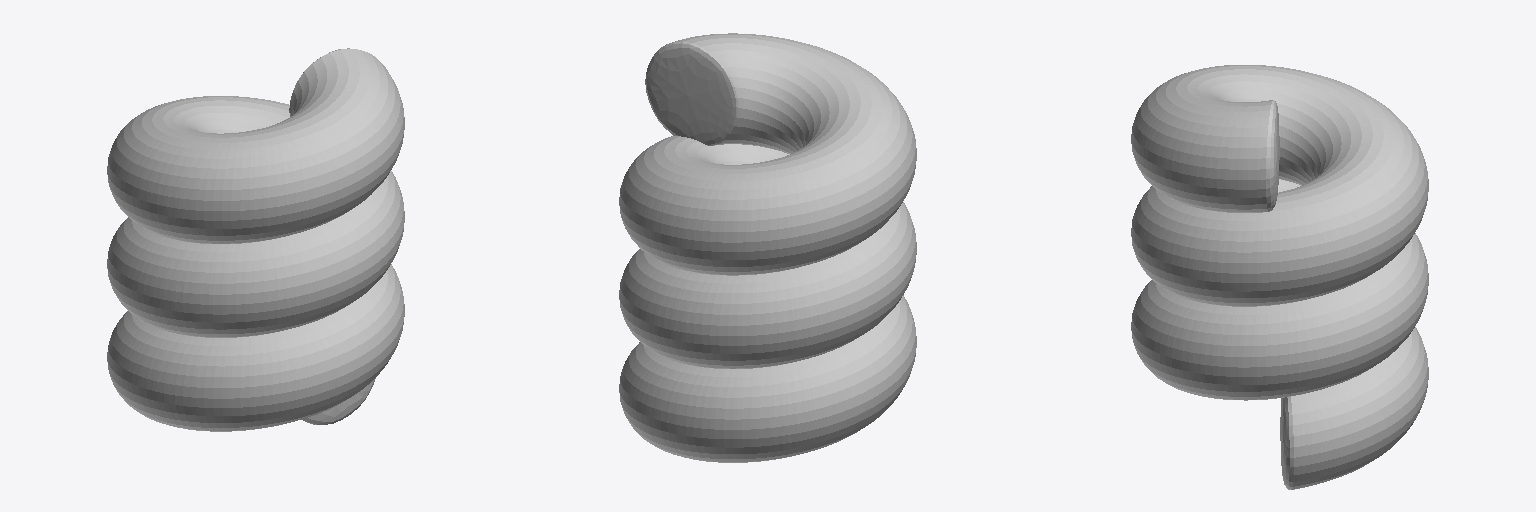
File: helix_37.5.obj
The picture shows the model from 3 angles: view 1: azimuth 30°, elevation 25°; view 2: azimuth 150°, elevation 25°; view 3: azimuth 270°, elevation 25°; orthographic projection.
Visible parts, largest first — view 1: helix:pHelix1; view 2: helix:pHelix1; view 3: helix:pHelix1.
Part boxes in pixels (x1,y1,x2,y2): helix:pHelix1: (107,48,404,431); helix:pHelix1: (619,33,916,462); helix:pHelix1: (1131,65,1428,489).
Bounding box in the file's own units: 1.92 × 2.71 × 1.92.